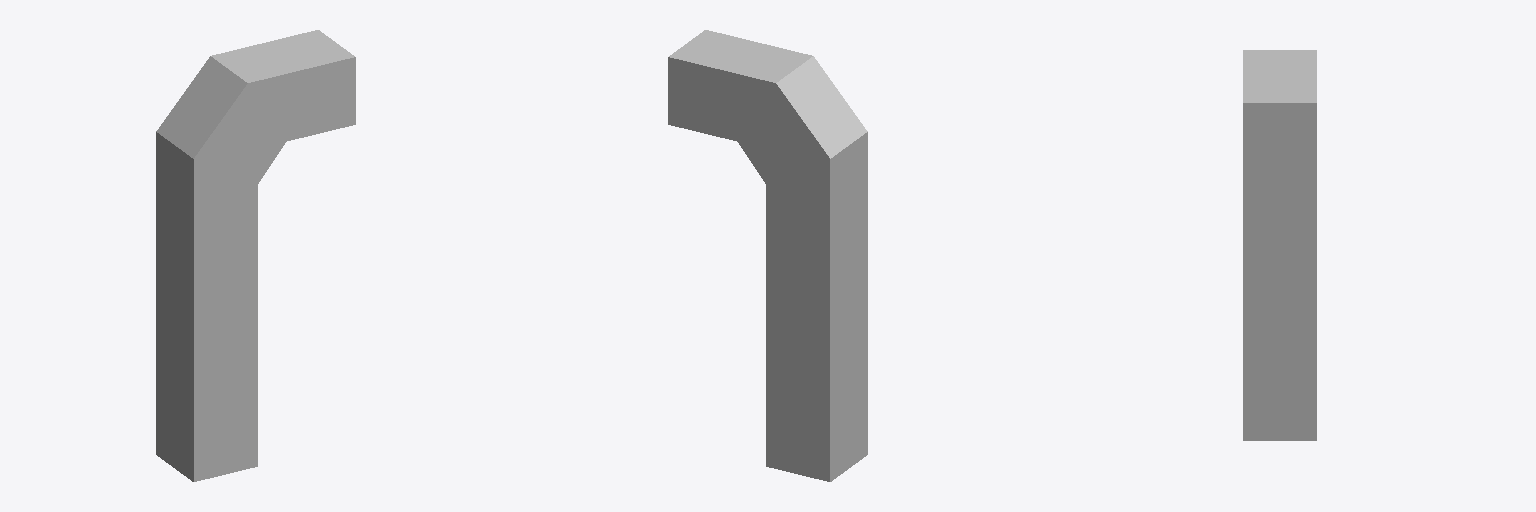
File: roughgatewayRight.obj
3 views of the same model, side by side, from view 1: azimuth 30°, elevation 25°; view 2: azimuth 150°, elevation 25°; view 3: azimuth 270°, elevation 25° (orthographic).
Visible parts, largest first — view 1: Cube.002; view 2: Cube.002; view 3: Cube.002.
Part boxes in pixels (left/top/right/bottom): Cube.002: left=156, top=30, right=355, bottom=481; Cube.002: left=668, top=30, right=867, bottom=481; Cube.002: left=1243, top=50, right=1316, bottom=440.
Bounding box in the file's own units: 2.5 × 5.69 × 1.